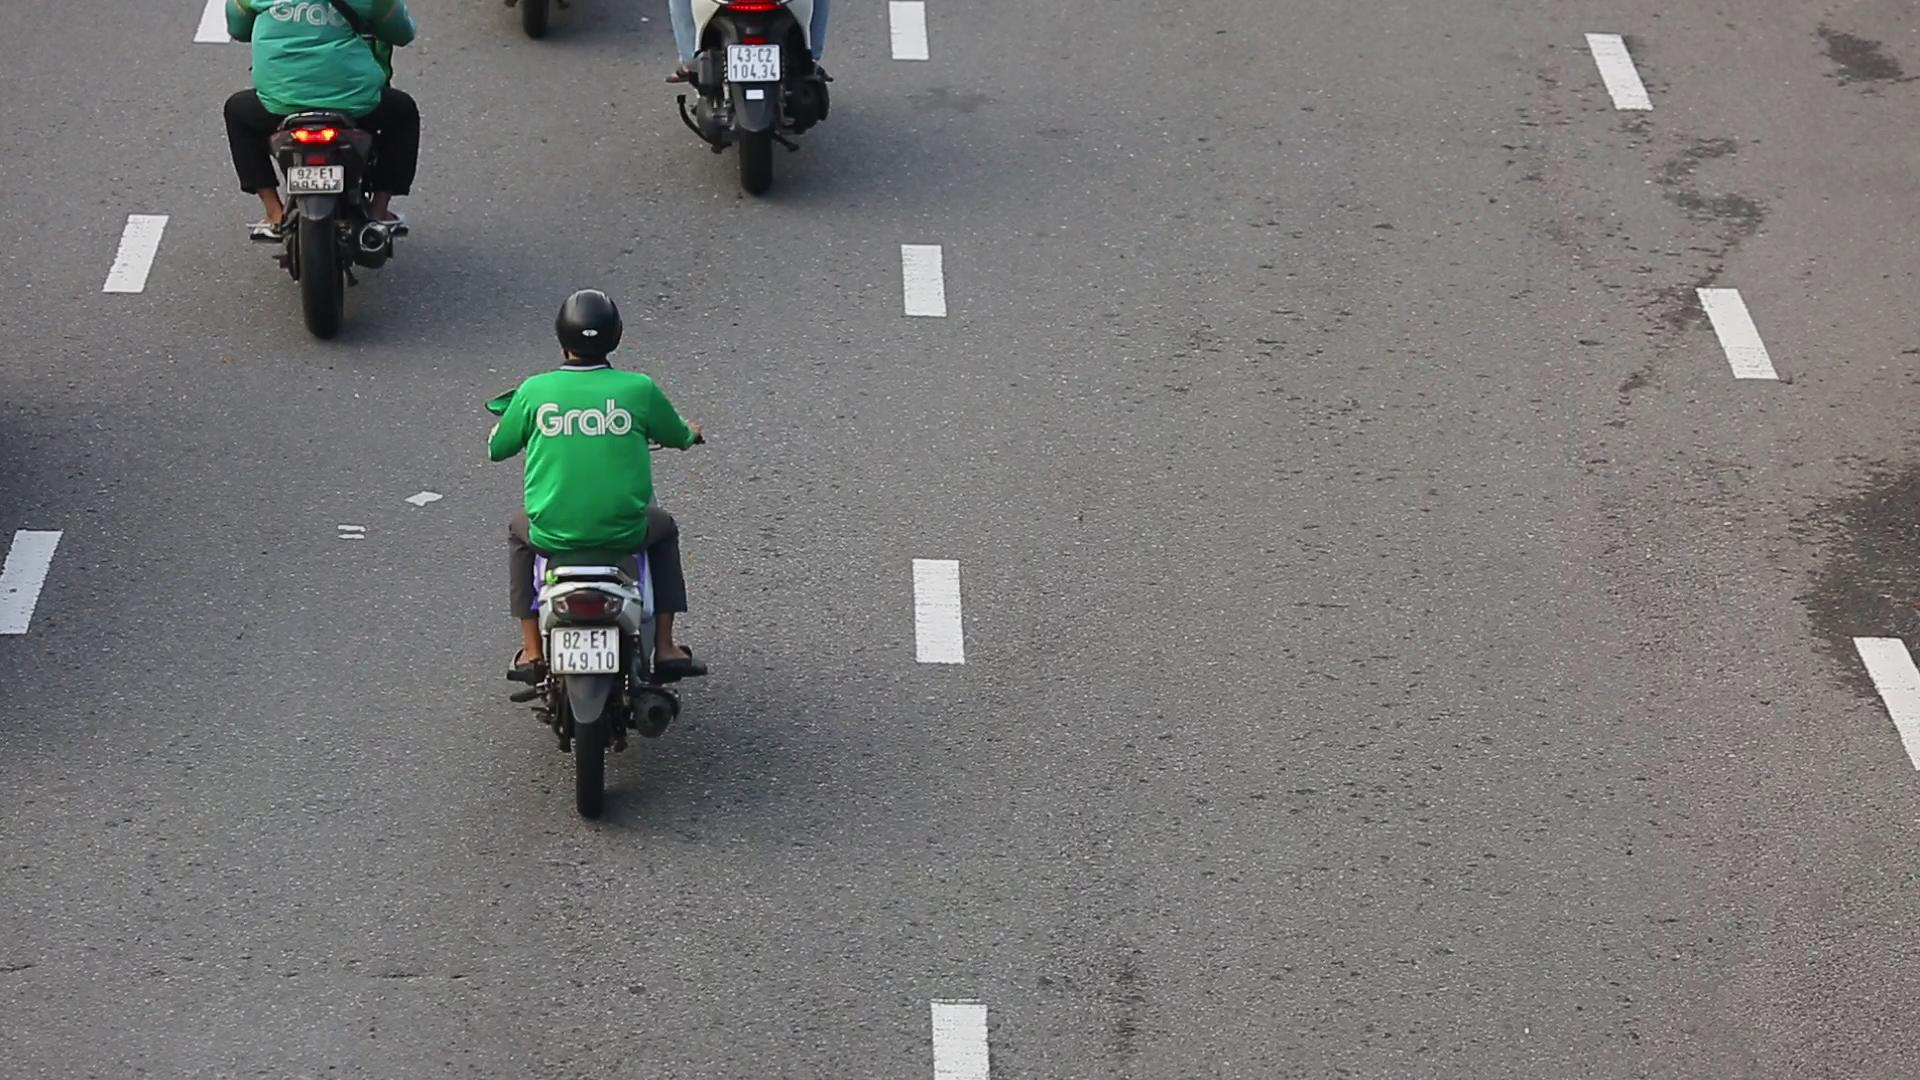motobike: (483, 286, 717, 831)
